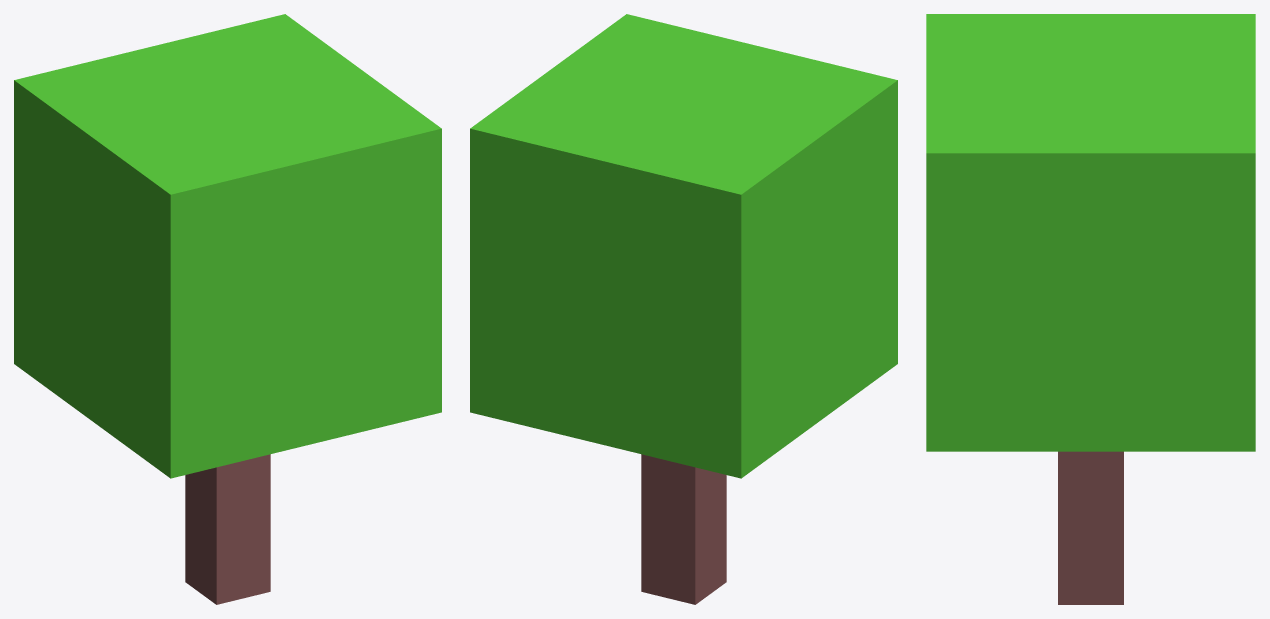
File: tree_square.obj
3 renders of one model, left to right at view 1: azimuth 30°, elevation 25°; view 2: azimuth 150°, elevation 25°; view 3: azimuth 270°, elevation 25°, orthographic. The views are drawn at different scales.
Visible parts, largest first — view 1: tree_square; view 2: tree_square; view 3: tree_square.
Boxes of the visible parts, x1,y1,x2,y2 form: tree_square: (14, 14, 441, 604); tree_square: (470, 14, 897, 604); tree_square: (926, 14, 1255, 604).
Bounding box in the file's own units: 10 × 17 × 10.
1 material, 1 textured.
